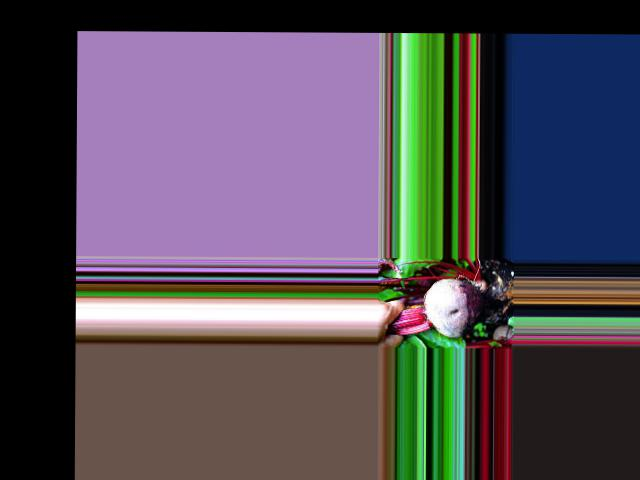beet: (385, 277, 514, 337)
